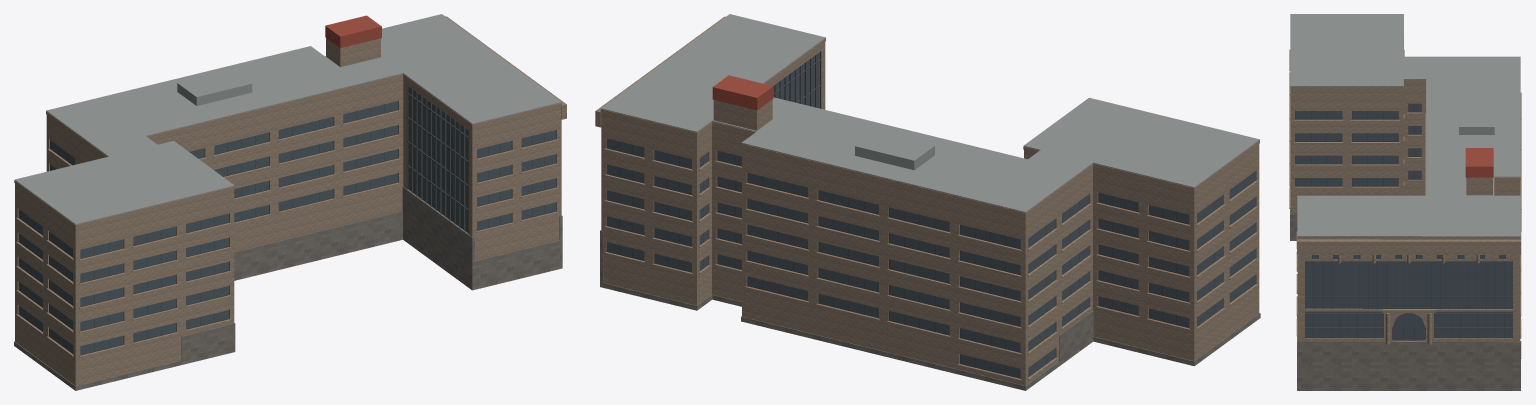
3 renders of one model, left to right at view 1: azimuth 30°, elevation 25°; view 2: azimuth 150°, elevation 25°; view 3: azimuth 270°, elevation 25°, orthographic. The views are drawn at different scales.
Parts seen in each view (by area): view 1: baird__tile, baird__roof, baird__glass, baird__base, baird__mull, baird__frame, baird__red; view 2: baird__tile, baird__roof, baird__glass, baird__base, baird__frame, baird__red, baird__mull; view 3: baird__roof, baird__tile, baird__glass, baird__base, baird__mull, baird__frame, baird__red.
Part boxes in pixels (x1,y1,x2,y2): baird__tile: [14, 16, 566, 385]; baird__roof: [15, 14, 561, 224]; baird__glass: [18, 86, 556, 354]; baird__base: [14, 187, 562, 390]; baird__mull: [407, 85, 468, 234]; baird__frame: [18, 101, 556, 355]; baird__red: [325, 15, 381, 48]; baird__tile: [595, 16, 1259, 385]; baird__roof: [600, 14, 1259, 212]; baird__glass: [607, 52, 1255, 378]; baird__base: [600, 230, 1260, 390]; baird__frame: [606, 138, 1255, 378]; baird__red: [712, 75, 773, 110]; baird__mull: [773, 51, 821, 108]; baird__roof: [1290, 14, 1520, 236]; baird__tile: [1289, 37, 1521, 358]; baird__glass: [1296, 103, 1512, 338]; baird__base: [1290, 186, 1520, 390]; baird__mull: [1305, 261, 1512, 338]; baird__frame: [1295, 104, 1505, 339]; baird__red: [1465, 148, 1493, 177].
Bounding box in the file's own units: 89.37 × 34 × 38.98.
7 materials, 2 textured.
